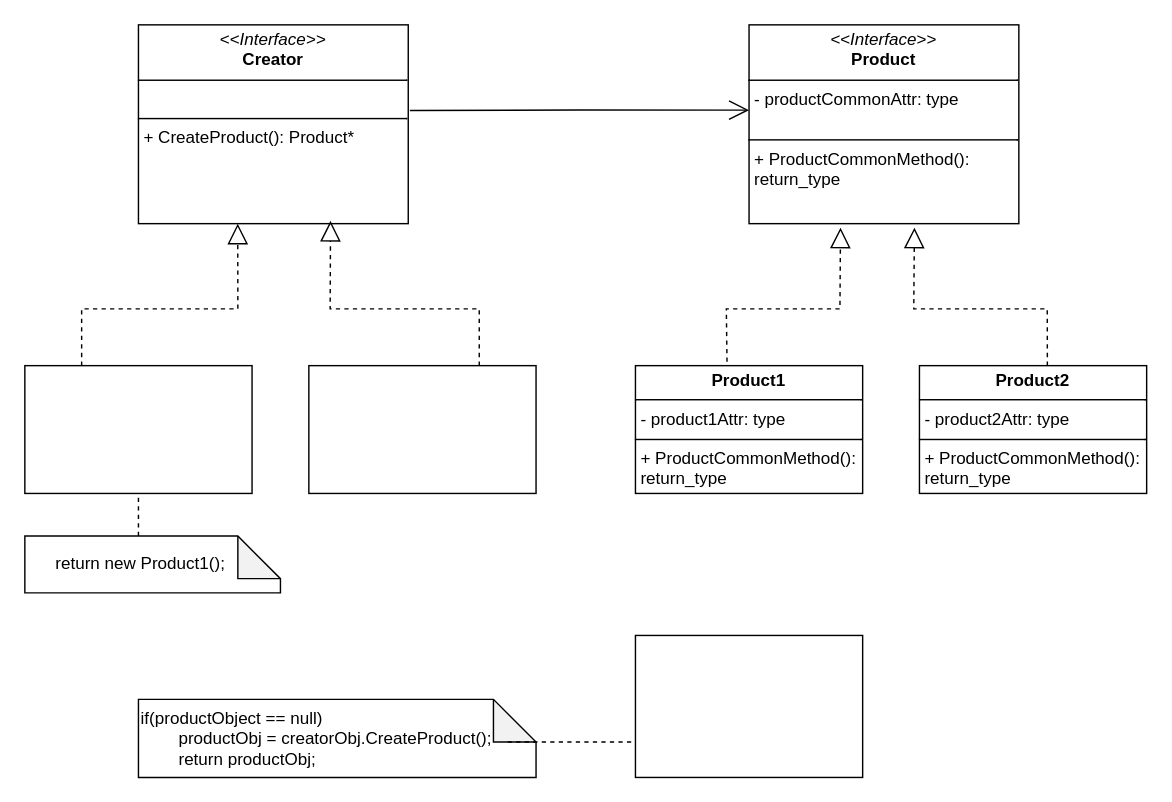
This 1172x802 diagram has some shape labels left out. The centre of each missing label's shape, as x and y in pixels:
"Client - creatorObj: Creator1 - productObj: Product + GetProduct(): Product*" belongs at (748,705).
"Creator1 - creatorAttr: type + CreateProduct(): Product*" belongs at (137,428).
"Creator2 - creatorAttr: type + CreateProduct(): Product*" belongs at (421,428).
